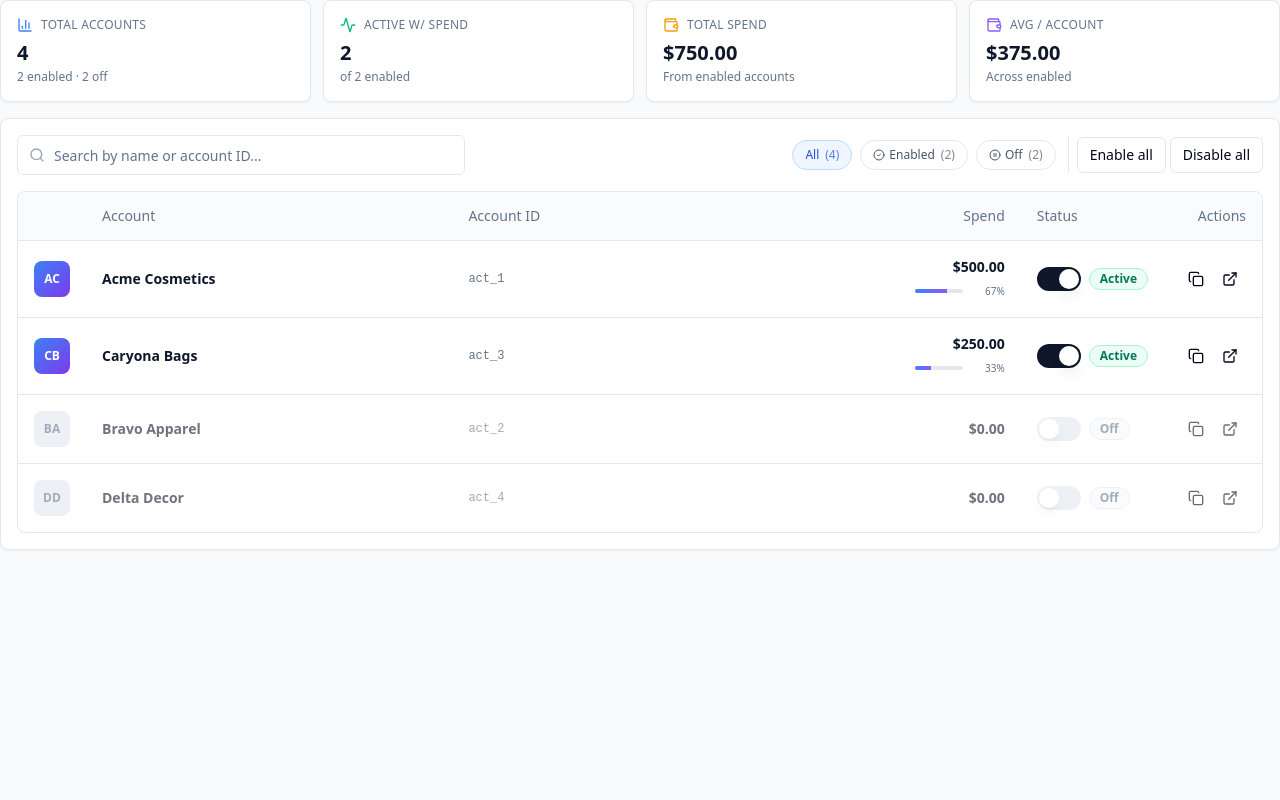
Test case: FacebookAccountsTable › shows empty state when no accounts match filters
Type "nope-zzz-doesnotexist" into the field with placeholder "Search by name or account ID..." at x=241, y=155, box [17,135,465,175]
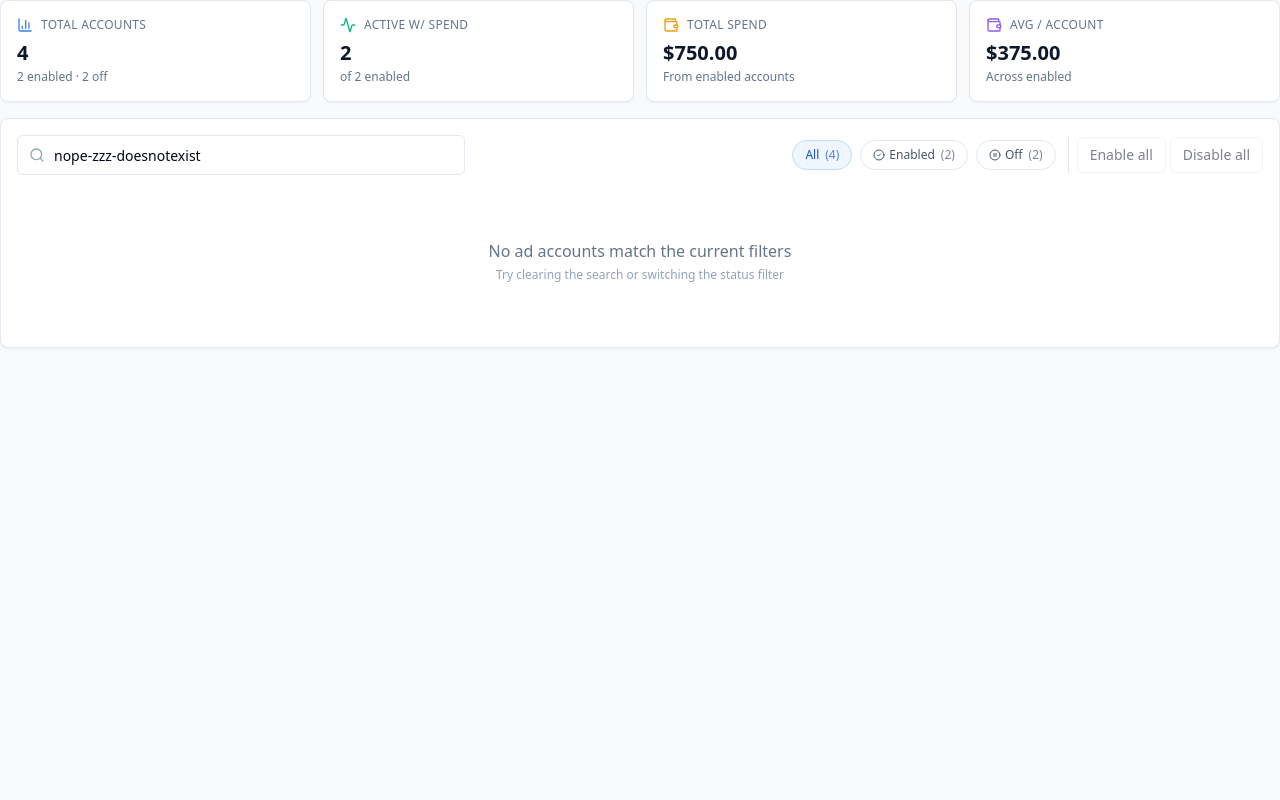
Expected: the text "No ad accounts match the current filters" is shown, [489,240,791,262]
